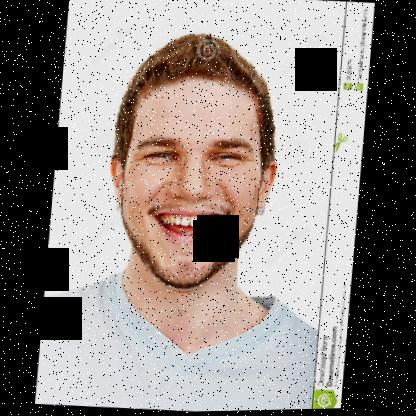Male: (103, 67, 284, 292)
